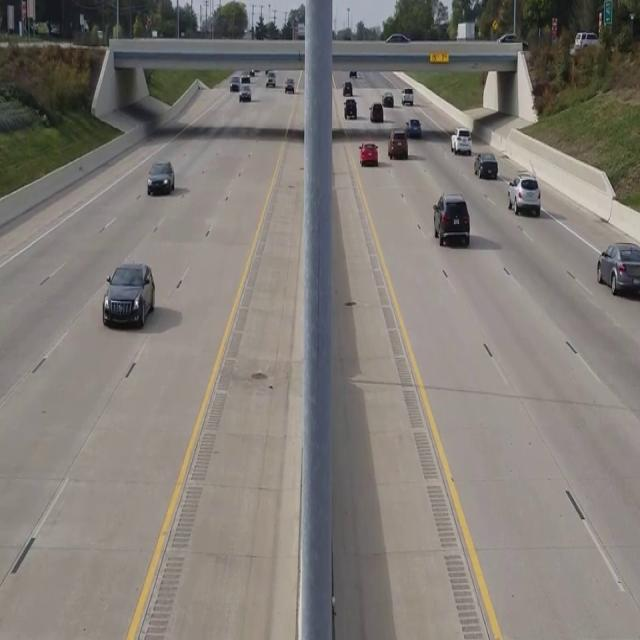car: (102, 262, 155, 328), (596, 240, 640, 298), (433, 193, 470, 247), (507, 174, 541, 216), (146, 160, 174, 194), (359, 141, 379, 166)
